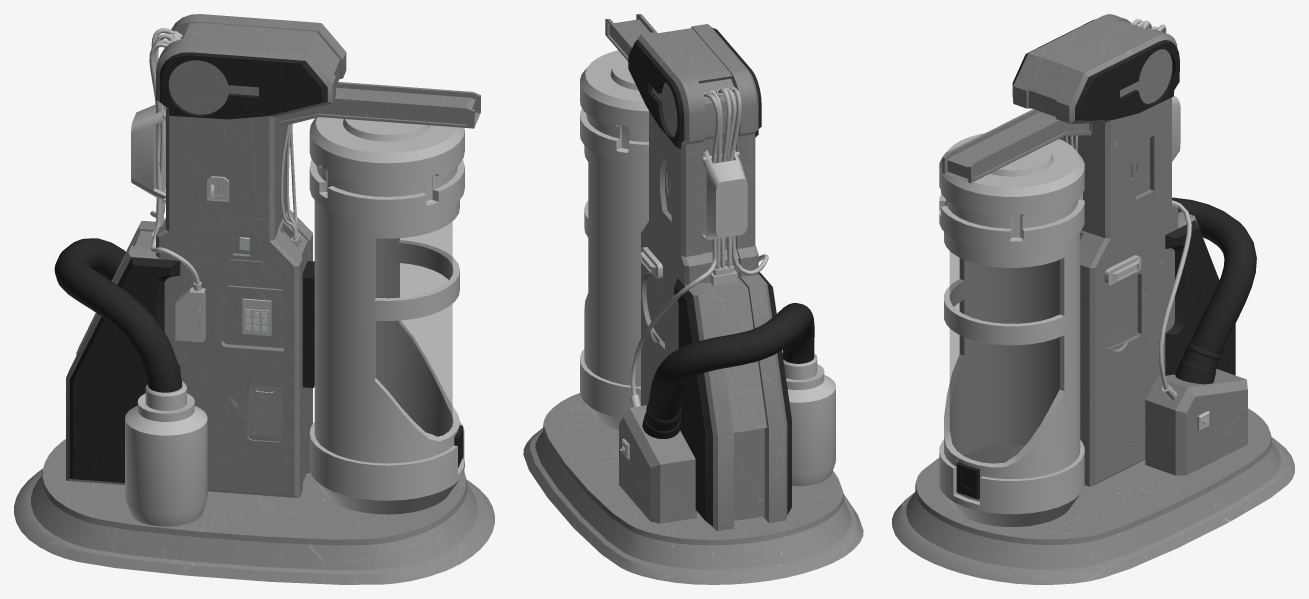
The picture shows the model from 3 angles, left to right: view 1: azimuth 30°, elevation 25°; view 2: azimuth 150°, elevation 25°; view 3: azimuth 270°, elevation 25°; orthographic projection. The views are drawn at different scales.
Parts seen in each view (by area): view 1: StaticMeshActor_50_StaticMeshComponent0, StaticMeshActor_16_StaticMeshComponent0, StaticMeshActor_49_StaticMeshComponent0, StaticMeshActor_28_StaticMeshComponent0, StaticMeshActor_0_StaticMeshComponent0, StaticMeshActor_26_StaticMeshComponent0; view 2: StaticMeshActor_50_StaticMeshComponent0, StaticMeshActor_16_StaticMeshComponent0, StaticMeshActor_28_StaticMeshComponent0, StaticMeshActor_49_StaticMeshComponent0, StaticMeshActor_26_StaticMeshComponent0; view 3: StaticMeshActor_50_StaticMeshComponent0, StaticMeshActor_16_StaticMeshComponent0, StaticMeshActor_0_StaticMeshComponent0, StaticMeshActor_49_StaticMeshComponent0, StaticMeshActor_26_StaticMeshComponent0, StaticMeshActor_28_StaticMeshComponent0.
Boxes of the visible parts, x1,y1,x2,y2 form: StaticMeshActor_50_StaticMeshComponent0: (14, 14, 494, 584); StaticMeshActor_16_StaticMeshComponent0: (309, 117, 464, 514); StaticMeshActor_49_StaticMeshComponent0: (69, 52, 327, 482); StaticMeshActor_28_StaticMeshComponent0: (125, 28, 300, 526); StaticMeshActor_0_StaticMeshComponent0: (376, 222, 452, 436); StaticMeshActor_26_StaticMeshComponent0: (54, 238, 463, 467); StaticMeshActor_50_StaticMeshComponent0: (523, 14, 863, 584); StaticMeshActor_16_StaticMeshComponent0: (580, 50, 648, 429); StaticMeshActor_28_StaticMeshComponent0: (620, 87, 835, 486); StaticMeshActor_49_StaticMeshComponent0: (628, 28, 791, 526); StaticMeshActor_26_StaticMeshComponent0: (642, 303, 814, 438); StaticMeshActor_50_StaticMeshComponent0: (892, 14, 1294, 584); StaticMeshActor_16_StaticMeshComponent0: (939, 133, 1084, 526); StaticMeshActor_0_StaticMeshComponent0: (950, 252, 1059, 463); StaticMeshActor_49_StaticMeshComponent0: (1012, 19, 1235, 375); StaticMeshActor_26_StaticMeshComponent0: (956, 197, 1256, 499); StaticMeshActor_28_StaticMeshComponent0: (1065, 19, 1209, 431).
Size of the model in its own units: 5.75 by 6.76 by 5.47.
5 materials, 2 textured.
